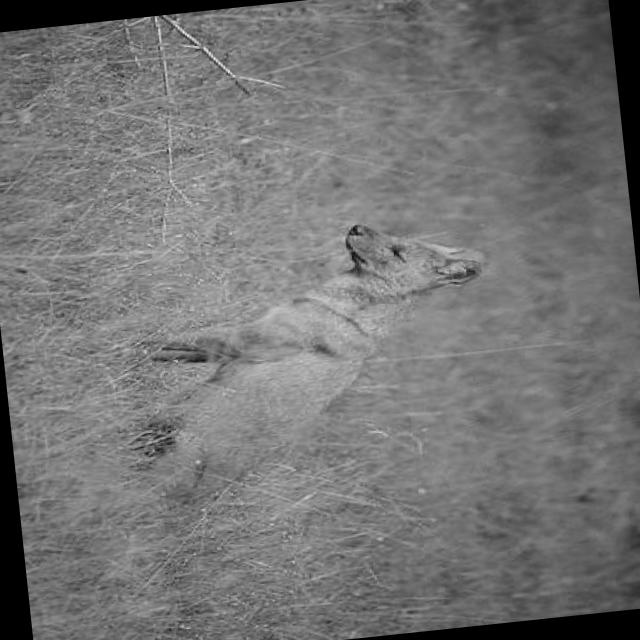sitting: (90, 203, 518, 536)
